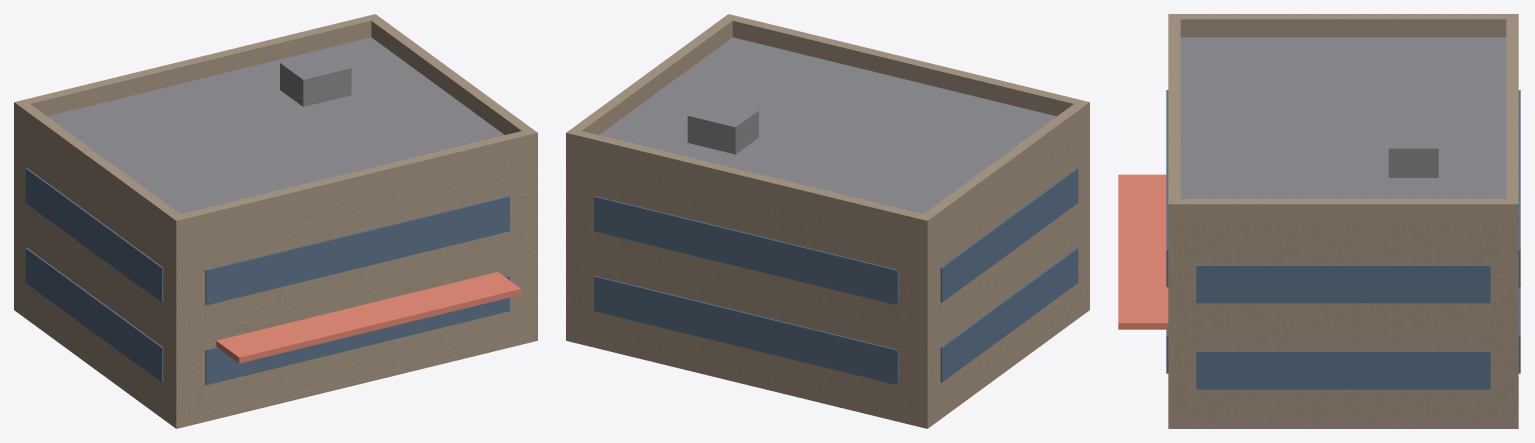
File: building_storefront.glb
The picture shows the model from 3 angles, left to right: view 1: azimuth 30°, elevation 25°; view 2: azimuth 150°, elevation 25°; view 3: azimuth 270°, elevation 25°; orthographic projection. The views are drawn at different scales.
Visible parts, largest first — view 1: TowerRoot; view 2: TowerRoot; view 3: TowerRoot.
Boxes of the visible parts, x1=… form: TowerRoot: x1=14, y1=14, x2=537, y2=428; TowerRoot: x1=566, y1=14, x2=1089, y2=428; TowerRoot: x1=1118, y1=14, x2=1520, y2=428.
Size of the model in its own units: 18.16 by 10.4 by 16.08.
Materials: 4 (1 with a texture image).
